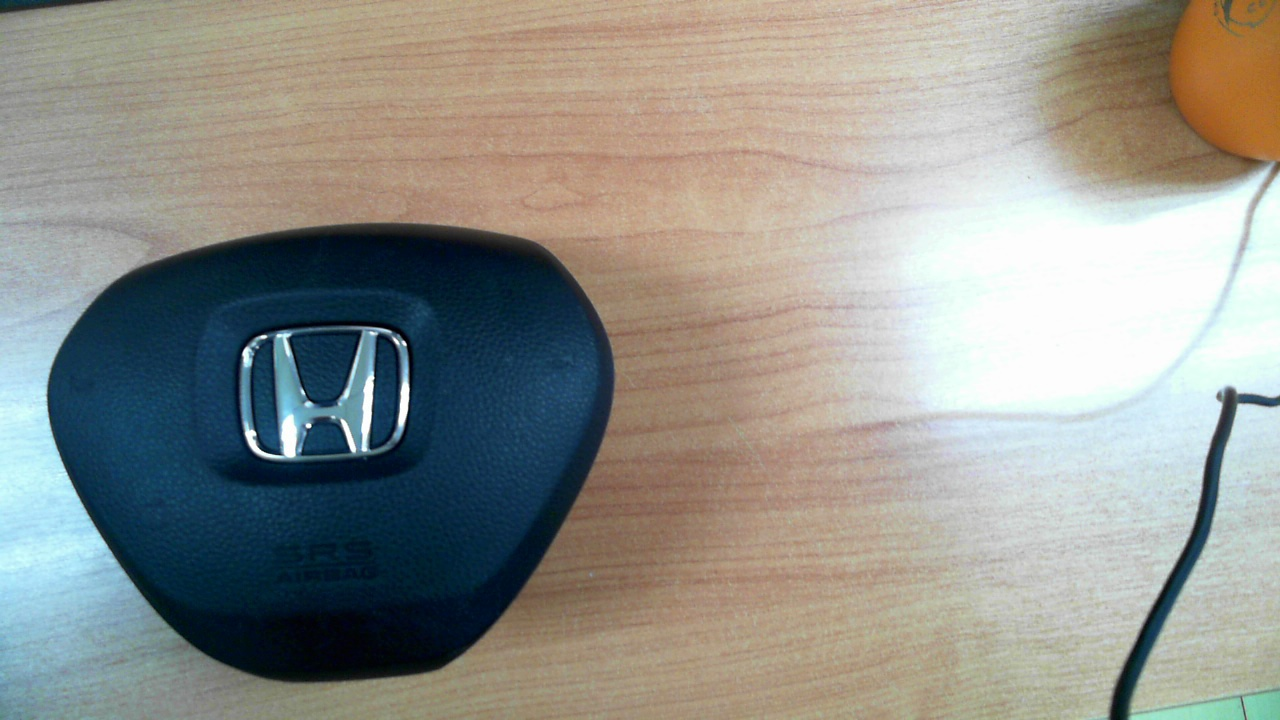Airbag: (46, 222, 616, 683)
Honda: (238, 324, 411, 461)
